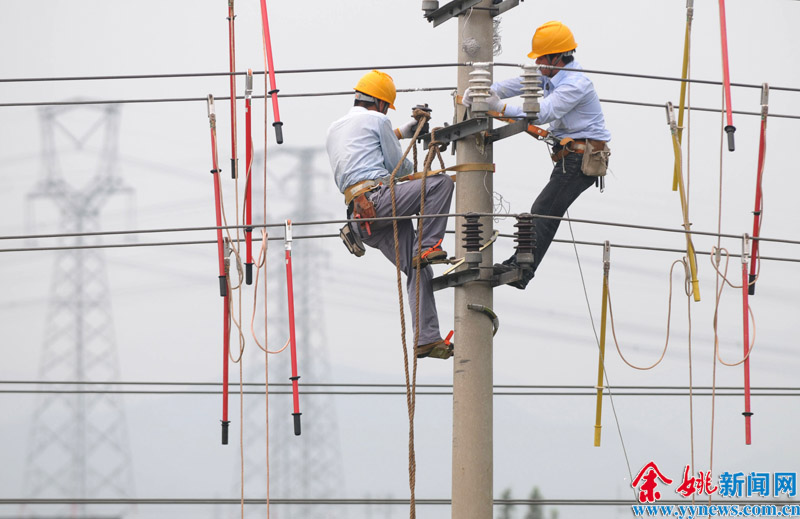safetyhat: (319, 61, 455, 365), (483, 15, 610, 300)
